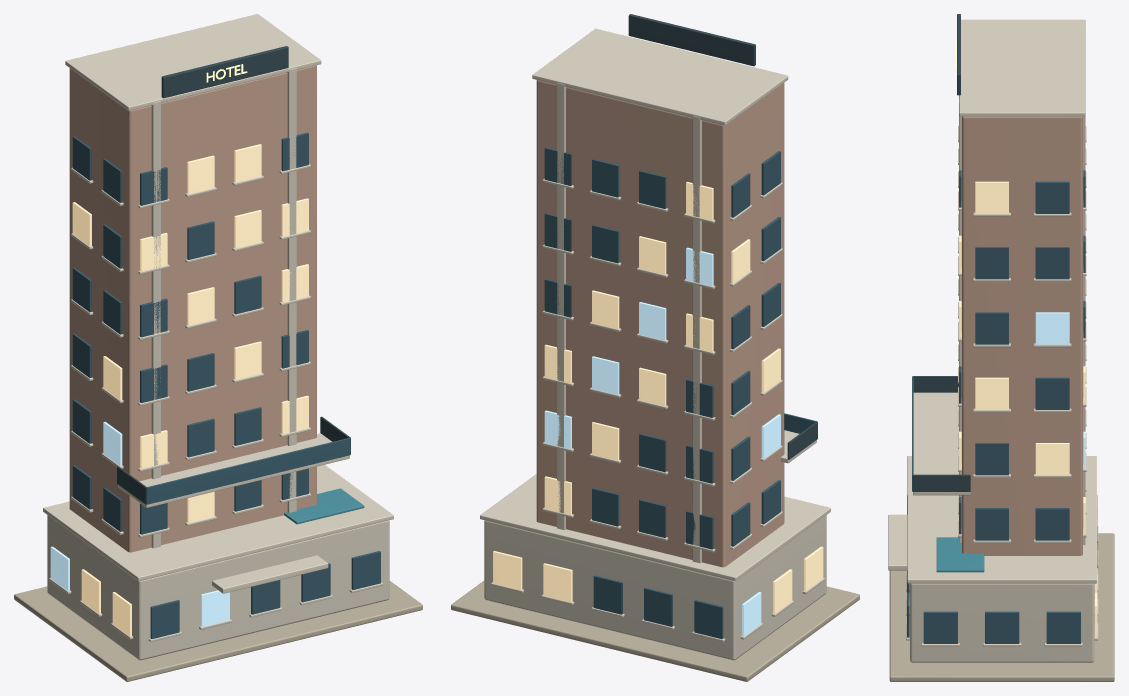
Rendered from hotel.glb.
The picture shows the model from 3 angles, left to right: view 1: azimuth 30°, elevation 25°; view 2: azimuth 150°, elevation 25°; view 3: azimuth 270°, elevation 25°; orthographic projection.
Parts seen in each view (by area): view 1: hotel_Building_Volume.001, hotel_Building_Volume, hotel_Roof_Coping.001, hotel_Roof_Coping, hotel_Site_Paving, hotel_Balcony_Glass, hotel_Hotel_Fin.001, hotel_Hotel_Fin, hotel_Sign_Backplate, hotel_Balcony_Slab, hotel_Arrival_Canopy, hotel_Rooftop_Pool (+43 smaller); view 2: hotel_Building_Volume.001, hotel_Building_Volume, hotel_Roof_Coping.001, hotel_Site_Paving, hotel_Roof_Coping, hotel_Hotel_Fin, hotel_Hotel_Fin.001, hotel_Sign_Backplate, hotel_Window_Recess.004, hotel_Window_Recess.006, hotel_Window_Recess, hotel_Window_Recess.008 (+40 smaller); view 3: hotel_Building_Volume.001, hotel_Roof_Coping.001, hotel_Building_Volume, hotel_Roof_Coping, hotel_Site_Paving, hotel_Balcony_Slab, hotel_Hotel_Fin.001, hotel_Rooftop_Pool, hotel_Window_Recess.025, hotel_Window_Recess.061, hotel_Window_Recess.011, hotel_Window_Recess.013 (+14 smaller).
Part boxes in pixels (box(x1,y1,x2,y2)): hotel_Building_Volume.001: box(69, 65, 316, 552); hotel_Building_Volume: box(47, 515, 389, 660); hotel_Roof_Coping.001: box(65, 14, 321, 110); hotel_Roof_Coping: box(43, 464, 393, 581); hotel_Site_Paving: box(14, 581, 422, 681); hotel_Balcony_Glass: box(146, 437, 350, 504); hotel_Hotel_Fin.001: box(287, 68, 296, 512); hotel_Hotel_Fin: box(151, 101, 160, 548); hotel_Sign_Backplate: box(161, 46, 288, 98); hotel_Balcony_Slab: box(118, 433, 349, 507); hotel_Arrival_Canopy: box(212, 555, 328, 593); hotel_Rooftop_Pool: box(284, 488, 364, 524); hotel_Building_Volume.001: box(536, 80, 784, 567); hotel_Building_Volume: box(484, 515, 826, 660); hotel_Roof_Coping.001: box(532, 28, 788, 125); hotel_Site_Paving: box(451, 581, 859, 681); hotel_Roof_Coping: box(480, 474, 830, 581); hotel_Hotel_Fin: box(692, 116, 701, 563); hotel_Hotel_Fin.001: box(557, 82, 566, 530); hotel_Sign_Backplate: box(628, 14, 755, 66); hotel_Window_Recess.004: box(593, 575, 622, 614); hotel_Window_Recess.006: box(543, 563, 572, 602); hotel_Window_Recess: box(694, 600, 723, 638); hotel_Window_Recess.008: box(493, 551, 522, 589); hotel_Building_Volume.001: box(962, 116, 1082, 555); hotel_Roof_Coping.001: box(959, 19, 1085, 116); hotel_Building_Volume: box(910, 583, 1094, 662); hotel_Roof_Coping: box(907, 456, 1096, 583); hotel_Site_Paving: box(889, 533, 1114, 681); hotel_Balcony_Slab: box(913, 392, 970, 495); hotel_Hotel_Fin.001: box(959, 99, 1085, 544); hotel_Rooftop_Pool: box(936, 537, 984, 572); hotel_Window_Recess.025: box(1035, 508, 1069, 540); hotel_Window_Recess.061: box(1035, 312, 1069, 344); hotel_Window_Recess.011: box(1046, 611, 1080, 643); hotel_Window_Recess.013: box(985, 611, 1019, 643).
Size of the model in its own units: 11.8 by 21.4 by 7.85.
